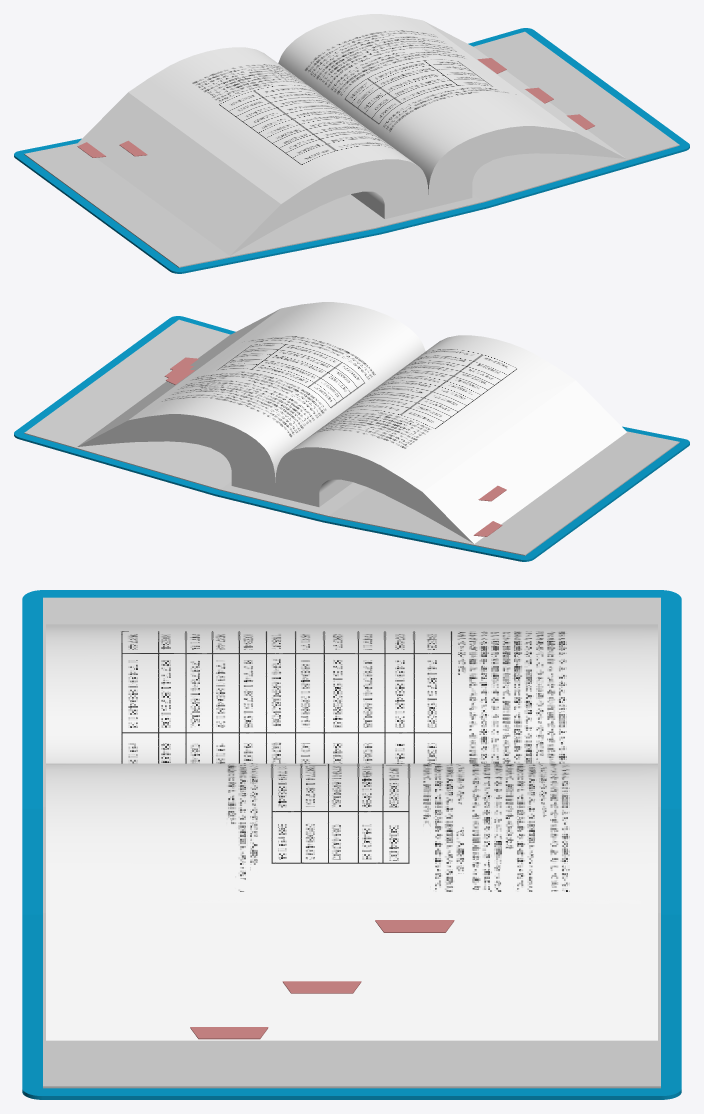
File: 456_パイプ式ファイル太開中身あり.glb
The picture shows the model from 3 angles, top to bottom: view 1: azimuth 30°, elevation 25°; view 2: azimuth 150°, elevation 25°; view 3: azimuth 270°, elevation 25°; orthographic projection. The views are drawn at different scales.
Parts seen in each view (by area): view 1: 456_pipe_file_L_open_with_contents; view 2: 456_pipe_file_L_open_with_contents; view 3: 456_pipe_file_L_open_with_contents.
Boxes of the visible parts, x1=… form: 456_pipe_file_L_open_with_contents: x1=14, y1=14, x2=689, y2=273; 456_pipe_file_L_open_with_contents: x1=14, y1=302, x2=689, y2=561; 456_pipe_file_L_open_with_contents: x1=22, y1=590, x2=681, y2=1099.
Size of the model in its own units: 0.5813 by 0.0753 by 0.32.
Materials: 7 (1 with a texture image).
